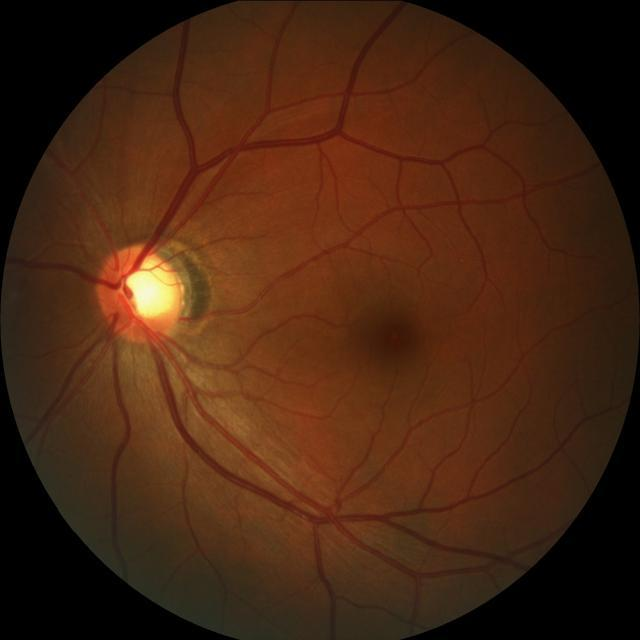OC: (122, 257, 183, 319)
OD: (99, 244, 184, 342)
